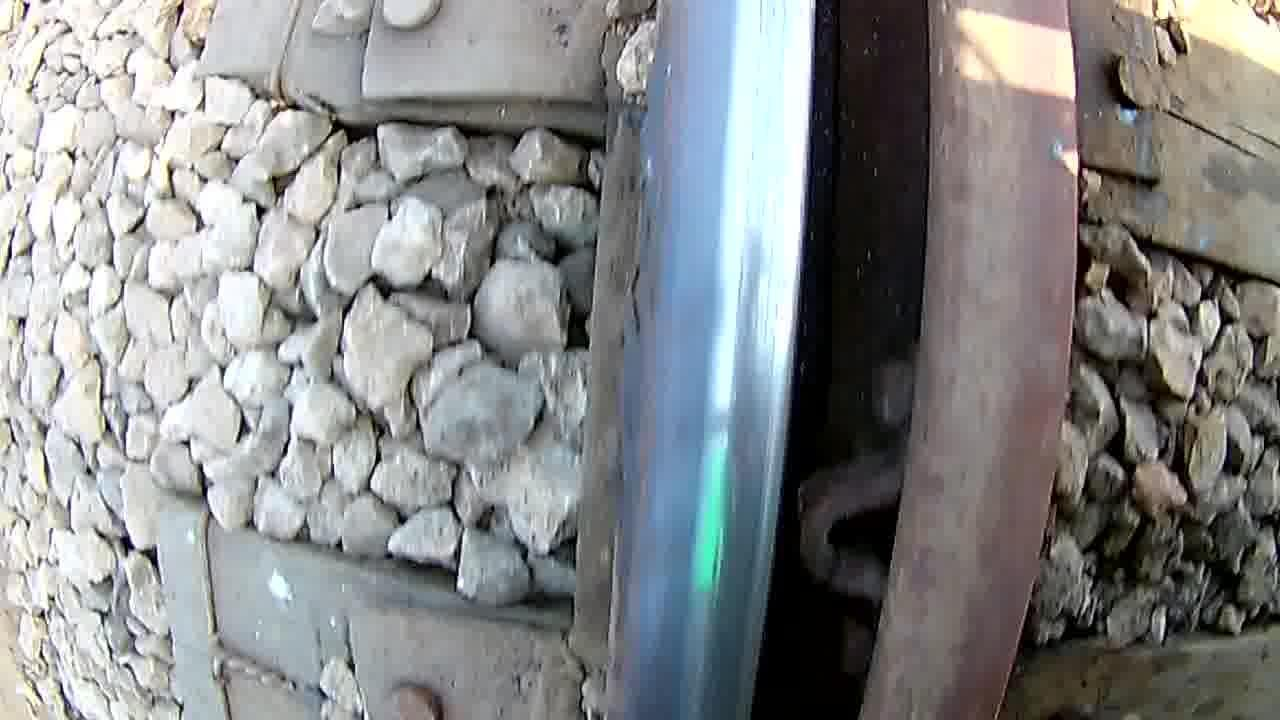crack: (624, 2, 824, 720)
